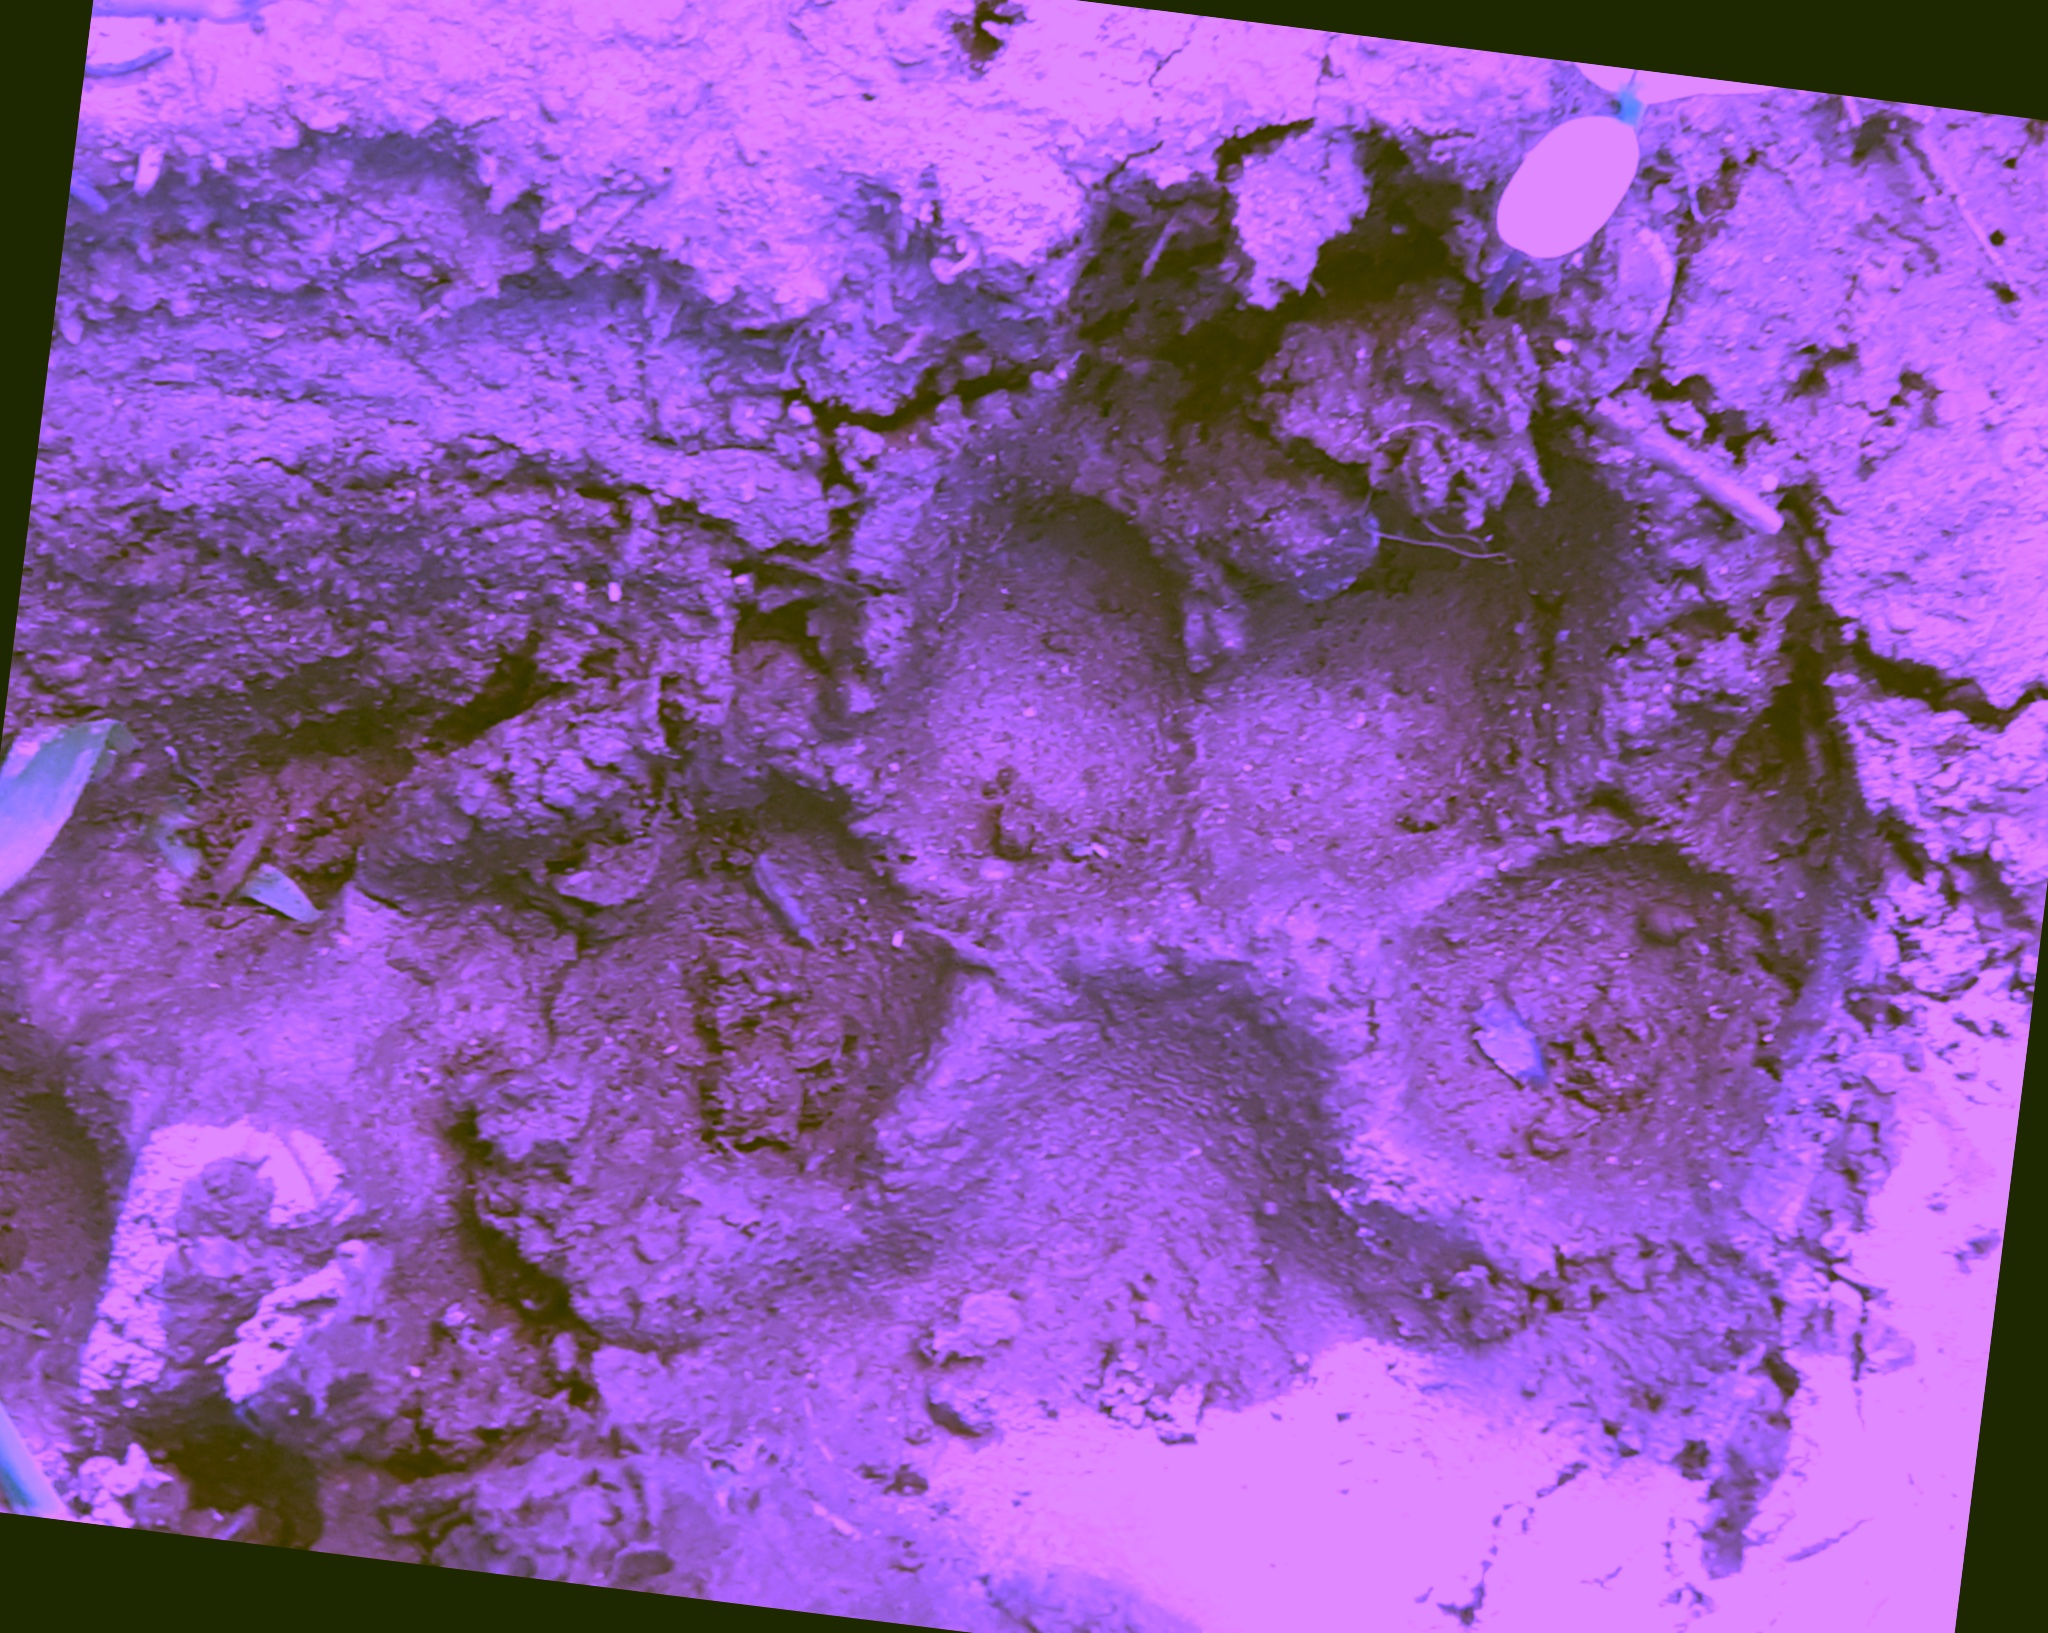loup: (408, 52, 1960, 1633)
